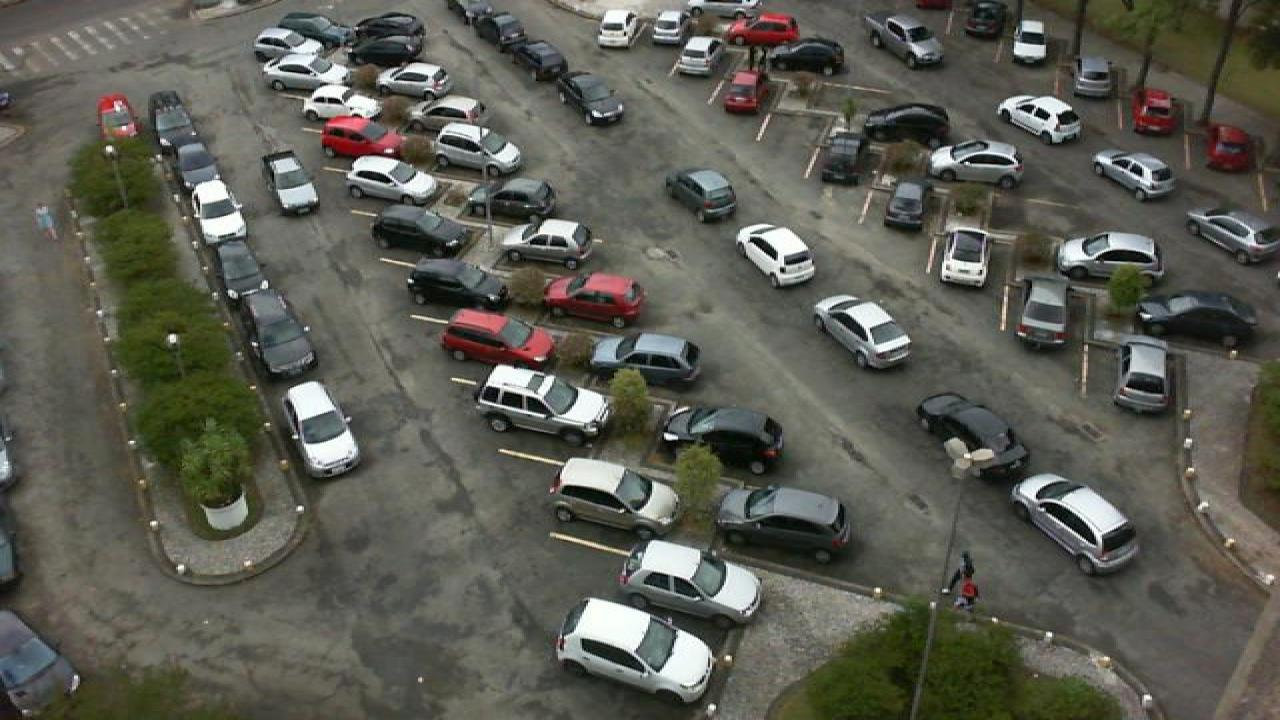Car: (554, 596, 716, 706), (1006, 470, 1146, 575), (616, 538, 764, 628), (714, 483, 854, 567), (474, 362, 612, 444), (546, 456, 682, 538), (916, 391, 1034, 483), (664, 402, 784, 476), (810, 294, 914, 373), (282, 379, 364, 479), (238, 287, 320, 380), (438, 304, 558, 366), (1138, 288, 1260, 348), (1056, 229, 1168, 286), (588, 331, 704, 386), (542, 269, 648, 327), (732, 222, 820, 288), (428, 120, 524, 178), (492, 217, 594, 270), (1184, 207, 1280, 263), (406, 256, 506, 308), (368, 207, 470, 257), (1112, 335, 1176, 414), (928, 138, 1022, 190), (862, 12, 946, 70), (346, 155, 440, 206), (1010, 277, 1074, 351), (996, 92, 1084, 145), (1090, 148, 1176, 200), (464, 176, 558, 222), (930, 223, 994, 289), (664, 166, 736, 222), (260, 150, 320, 216), (214, 237, 272, 305), (860, 101, 952, 142), (556, 71, 624, 126), (192, 178, 248, 243), (320, 114, 402, 158), (300, 82, 382, 124), (264, 56, 348, 94), (252, 27, 336, 65), (760, 36, 846, 73), (880, 180, 936, 235), (814, 128, 866, 187), (170, 143, 224, 198), (1202, 121, 1258, 174), (344, 36, 428, 71), (380, 61, 452, 100), (412, 96, 488, 132), (722, 11, 802, 45), (514, 36, 568, 84), (276, 11, 354, 44), (352, 12, 426, 46), (1068, 54, 1118, 100), (670, 34, 722, 78), (1130, 87, 1178, 134), (94, 94, 142, 140), (154, 118, 202, 163), (146, 90, 194, 135), (1006, 17, 1050, 66), (716, 68, 762, 114), (592, 8, 642, 49), (966, 0, 1008, 39), (494, 17, 538, 54), (682, 0, 760, 19), (646, 9, 686, 46), (456, 0, 506, 26)
